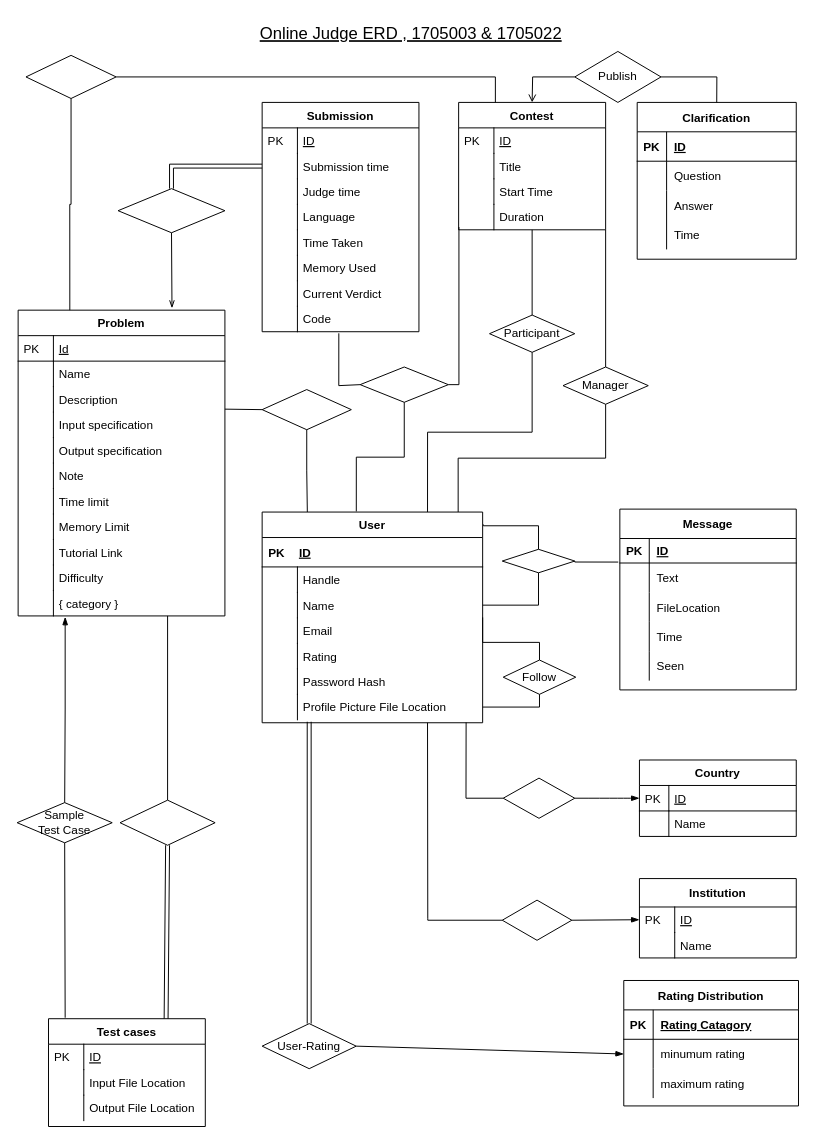
Some shapes in this 816 by 1144 pixel diagram are drawn without their labels. Here are the shapes that lost their labels. From the top down, the centre of each, then its label:
pixel 70 76: Problem - Contest
pixel 171 210: Problem- Submission
pixel 403 384: Submit
pixel 306 409: Problem- User
pixel 538 560: Send
pixel 538 797: Lives in
pixel 167 822: Problem- TestCase
pixel 536 919: Has
